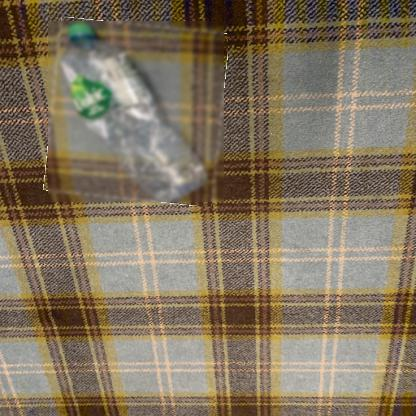plastic-bottles: (49, 22, 226, 204)
